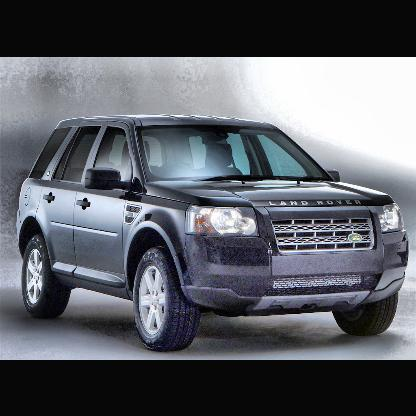Land Rover LR2 SUV 2012: (16, 112, 412, 349)
